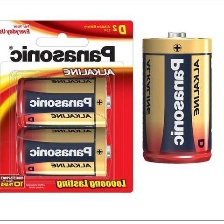battery: (137, 29, 218, 168), (14, 73, 114, 128), (13, 124, 112, 177)
